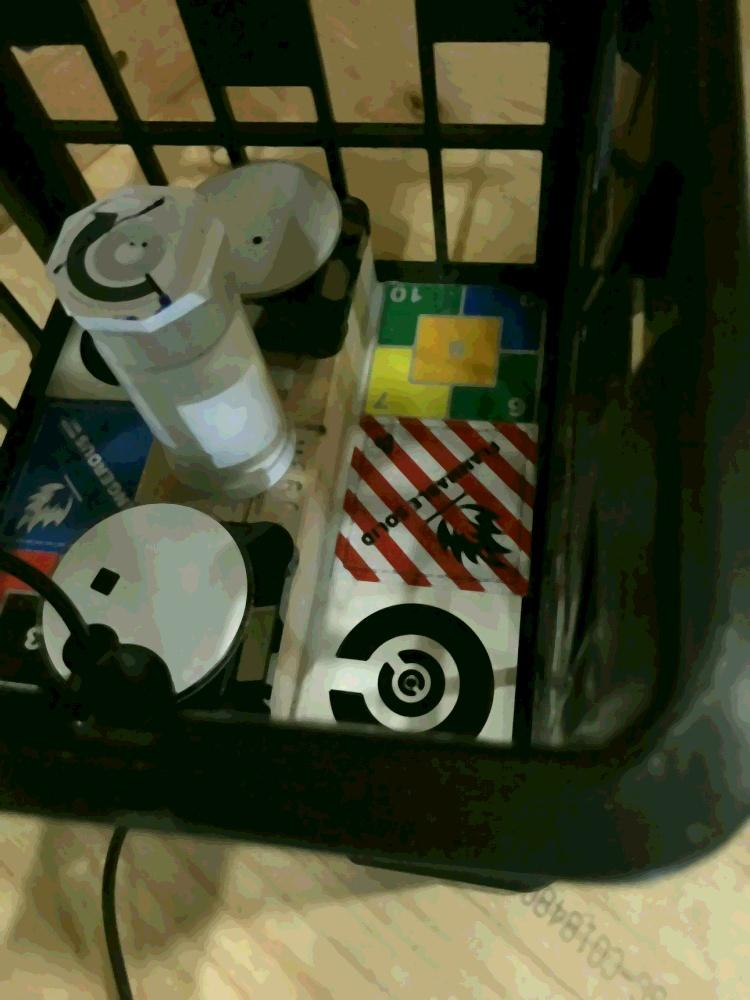dangerous-when-wet: (13, 397, 150, 546)
flammable-solid: (328, 408, 533, 599)
